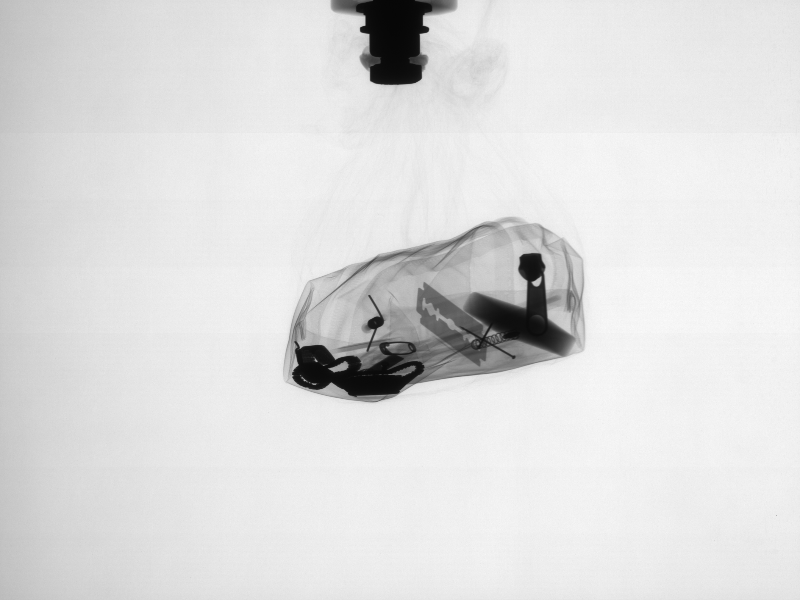bobby pin: (379, 340, 414, 354)
needle: (459, 323, 514, 363)
rasor blade: (419, 279, 490, 364)
rope: (296, 341, 416, 396)
